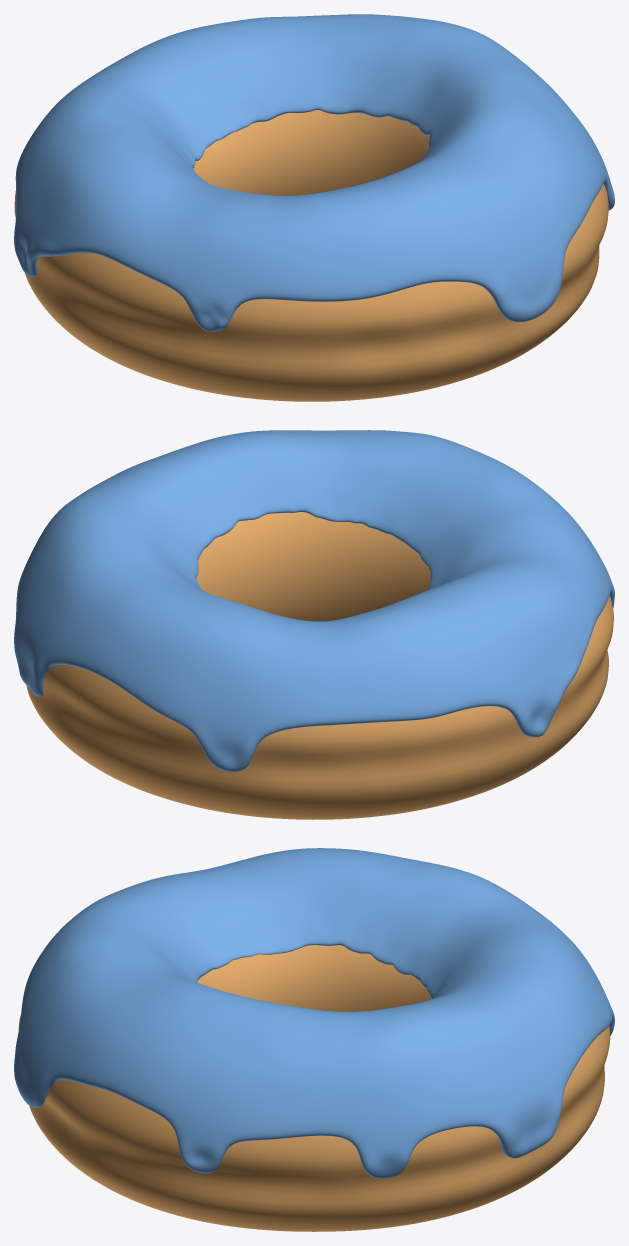
File: donut.glb
3 renders of one model, top to bottom at view 1: azimuth 30°, elevation 25°; view 2: azimuth 150°, elevation 25°; view 3: azimuth 270°, elevation 25°, orthographic.
Visible parts, largest first — view 1: Icing, Dough; view 2: Icing, Dough; view 3: Icing, Dough.
Part boxes in pixels (x1,y1,x2,y2): Icing: (14, 14, 614, 331); Dough: (14, 110, 608, 401); Icing: (14, 430, 614, 772); Dough: (26, 512, 613, 819); Icing: (14, 848, 614, 1178); Dough: (18, 945, 610, 1231).
Size of what is drawn, in the model's own units: 0.1428 by 0.055 by 0.1437.
